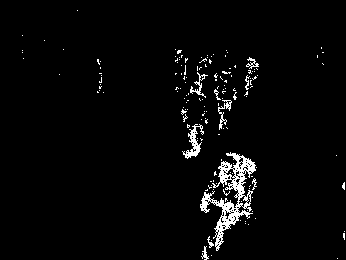person: (181, 80, 208, 159), (214, 69, 237, 132), (245, 56, 260, 97)
